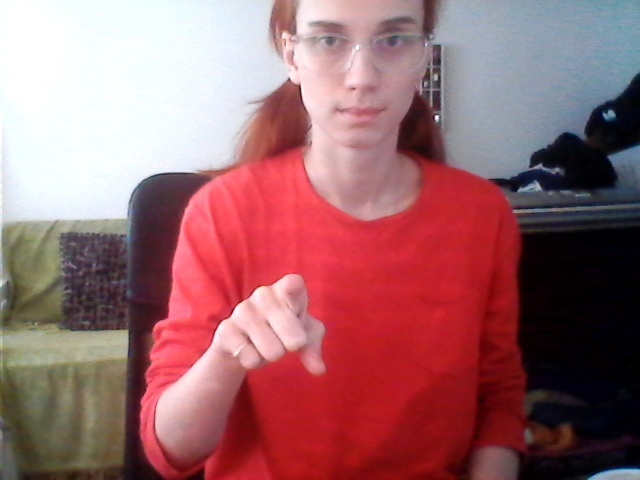ty: (199, 263, 336, 388)
